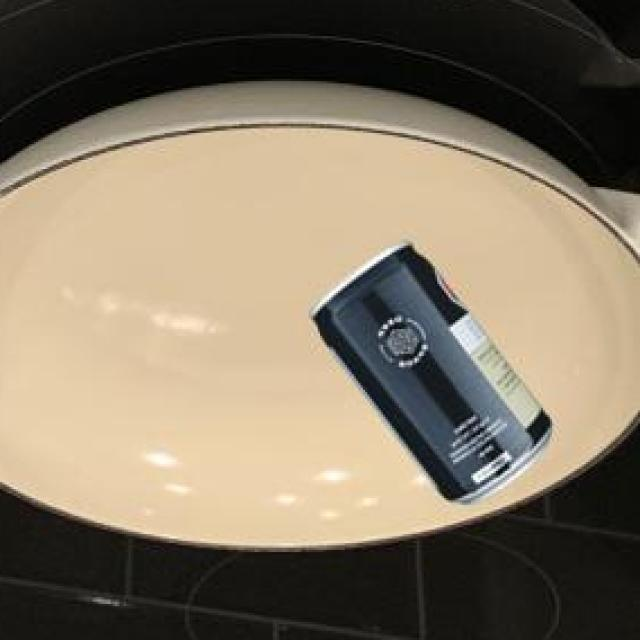logam: (308, 245, 549, 508)
